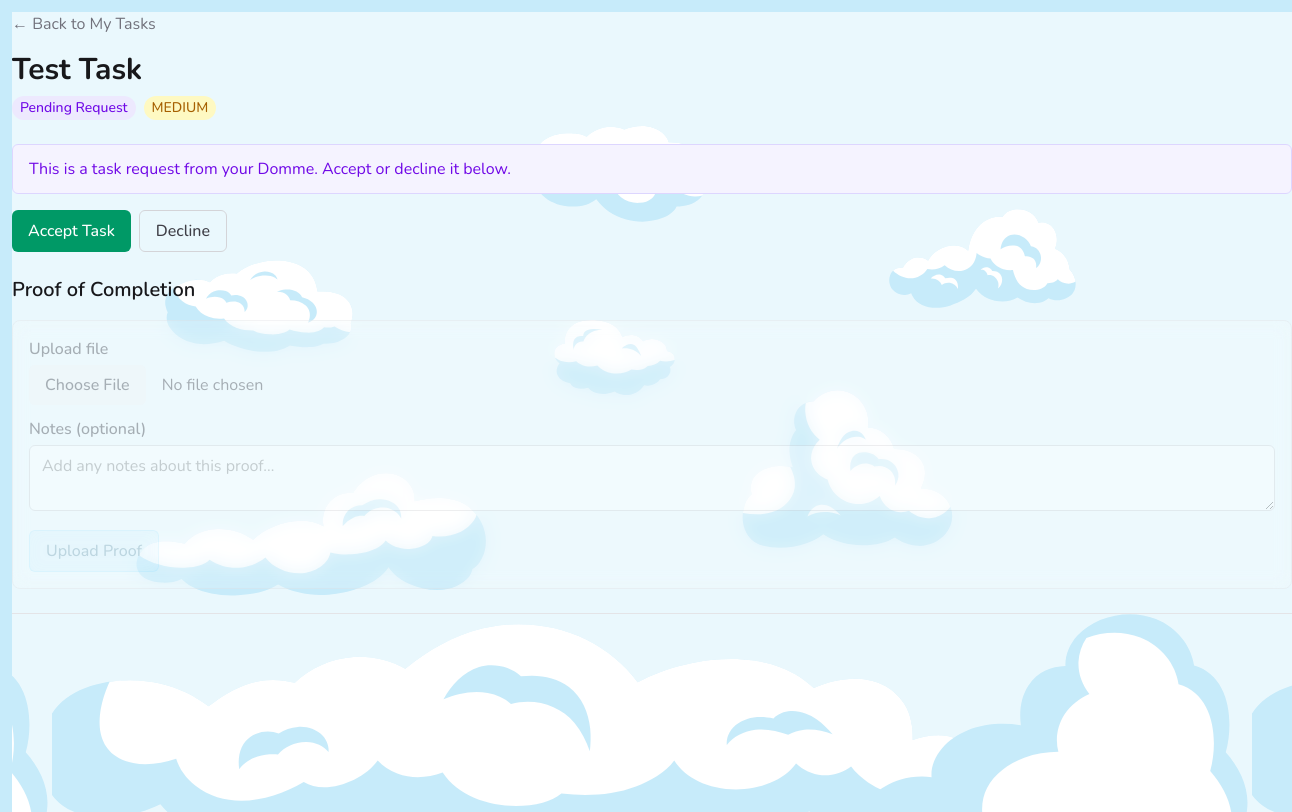
Scenario: MyTaskDetailClient › shows error when accept fails
The width and height of the screenshot is (1292, 812).
Click the button "Accept Task": click(71, 231) x1=12 y1=210 x2=131 y2=252
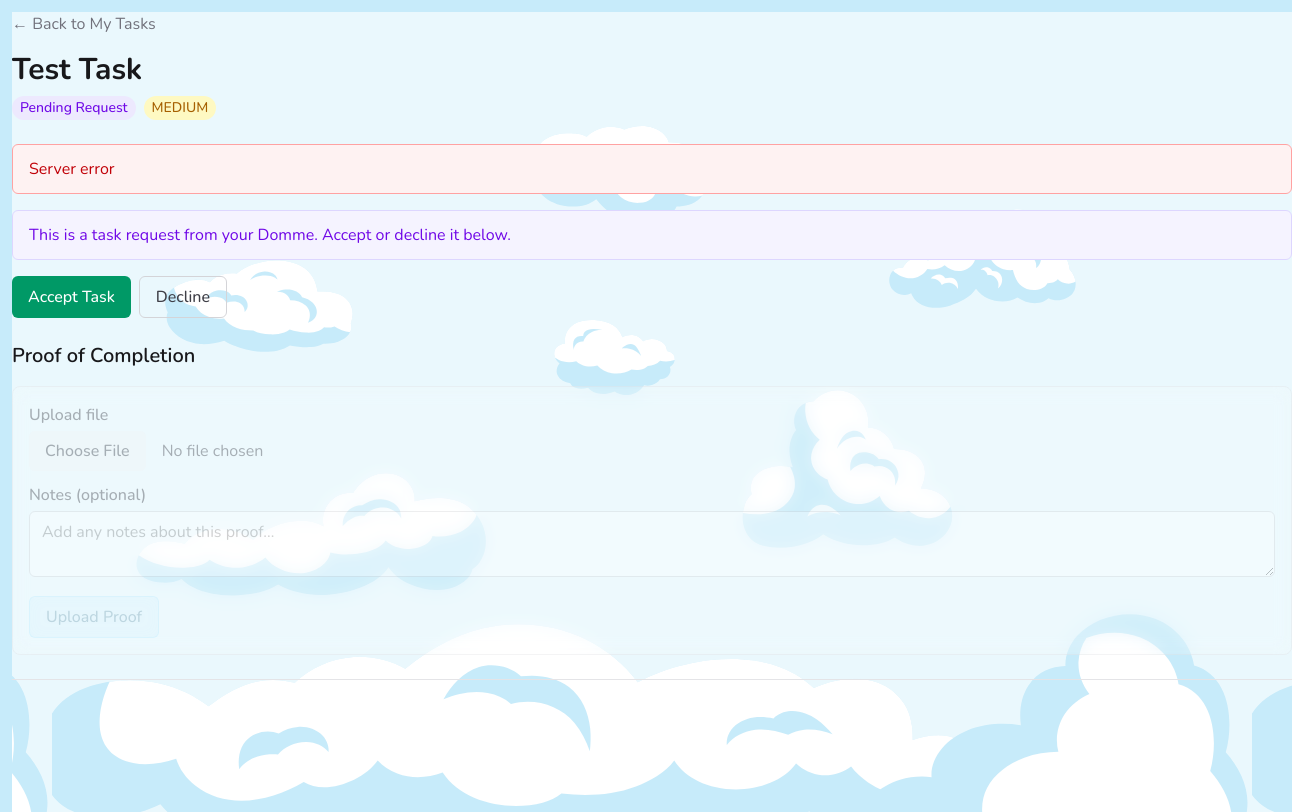
expect the text "Server error" is shown: met, box x1=12 y1=144 x2=1291 y2=194
